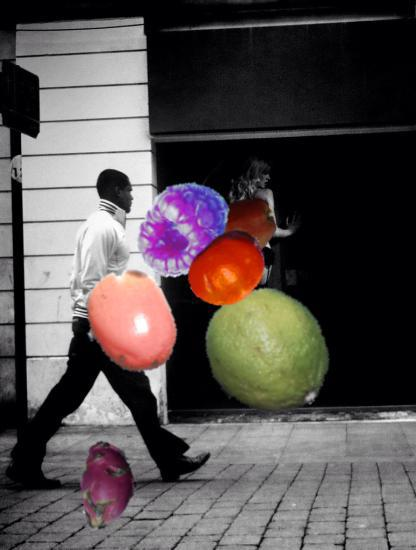Apple: (210, 195, 278, 263)
Clementine: (186, 225, 273, 312)
Kaki: (75, 267, 186, 378)
Limes: (200, 285, 335, 420)
Pear: (254, 309, 324, 379)
Pitahaya: (61, 440, 154, 533)
Raspberry: (130, 179, 232, 281)
